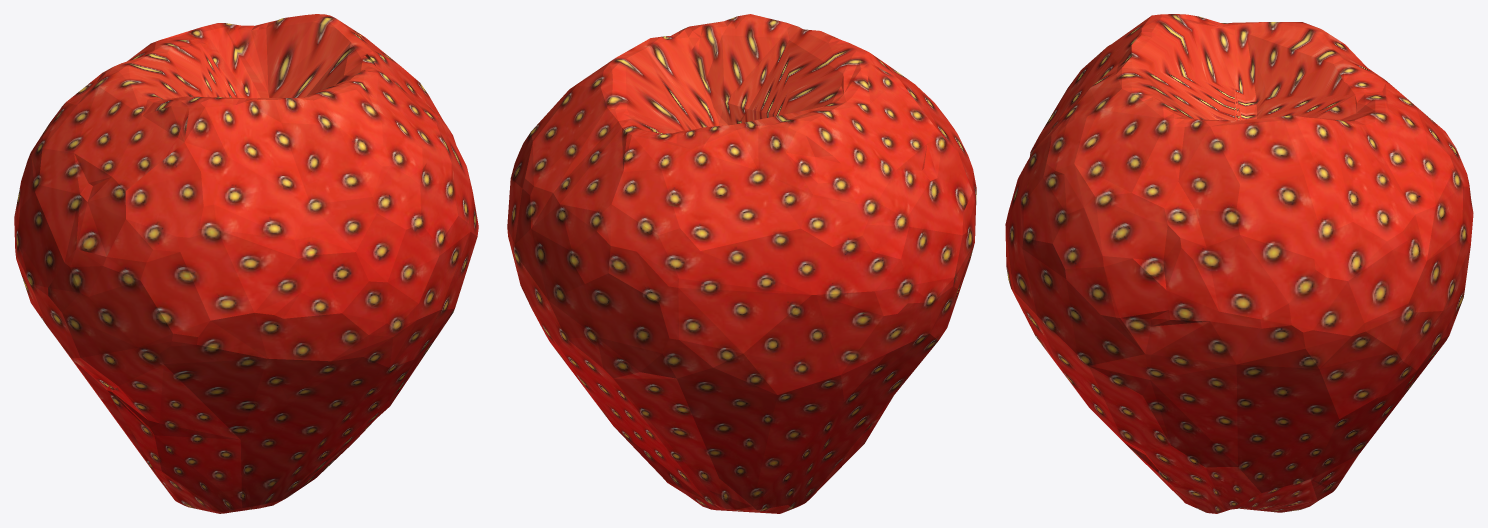
3 views of the same model, side by side, from view 1: azimuth 30°, elevation 25°; view 2: azimuth 150°, elevation 25°; view 3: azimuth 270°, elevation 25° (orthographic). The views are drawn at different scales.
Parts seen in each view (by area): view 1: _004_Meshed; view 2: _004_Meshed; view 3: _004_Meshed.
Part boxes in pixels (bbox=[...]): _004_Meshed: bbox=[14, 14, 478, 513]; _004_Meshed: bbox=[507, 14, 976, 513]; _004_Meshed: bbox=[1005, 14, 1473, 513].
Size of the model in its own units: 0.1098 by 0.1046 by 0.1135.
1 material, 1 textured.
